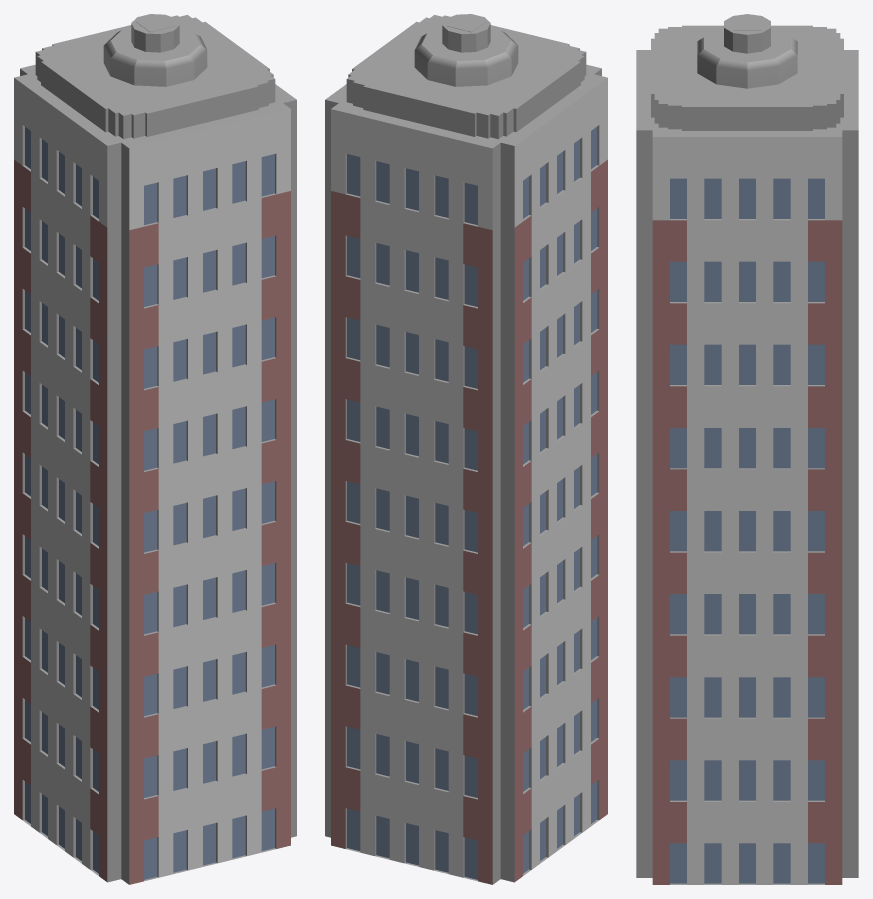
Rendered from SpecialBuildingTwin.fbx.
3 views of the same model, side by side, from view 1: azimuth 30°, elevation 25°; view 2: azimuth 150°, elevation 25°; view 3: azimuth 270°, elevation 25° (orthographic).
Parts seen in each view (by area): view 1: SpecialBuildingTwin2; view 2: SpecialBuildingTwin2; view 3: SpecialBuildingTwin2.
Part boxes in pixels (box(x1,y1,x2,y2)): SpecialBuildingTwin2: box(14, 14, 296, 884); SpecialBuildingTwin2: box(325, 14, 607, 884); SpecialBuildingTwin2: box(636, 14, 858, 884).
Bounding box in the file's own units: 2.91 × 11.74 × 2.91.
